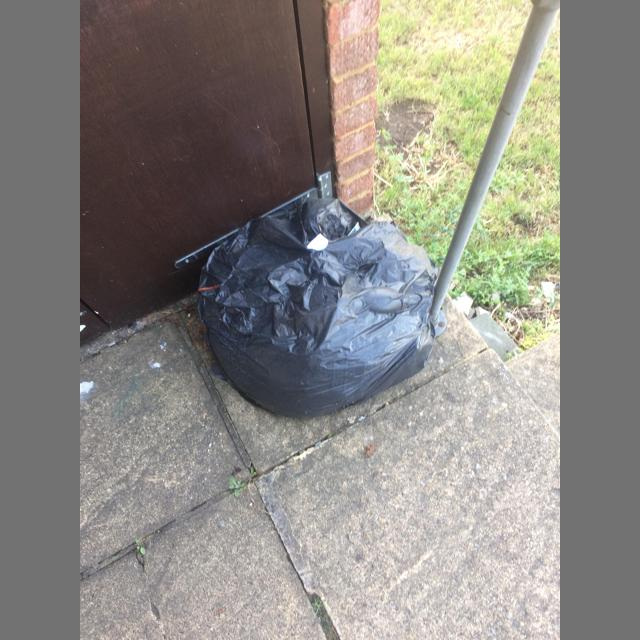litter: (197, 198, 436, 418)
